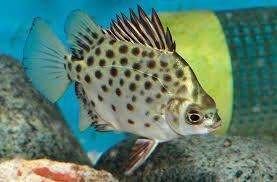Scat Fish: (20, 4, 221, 177)
